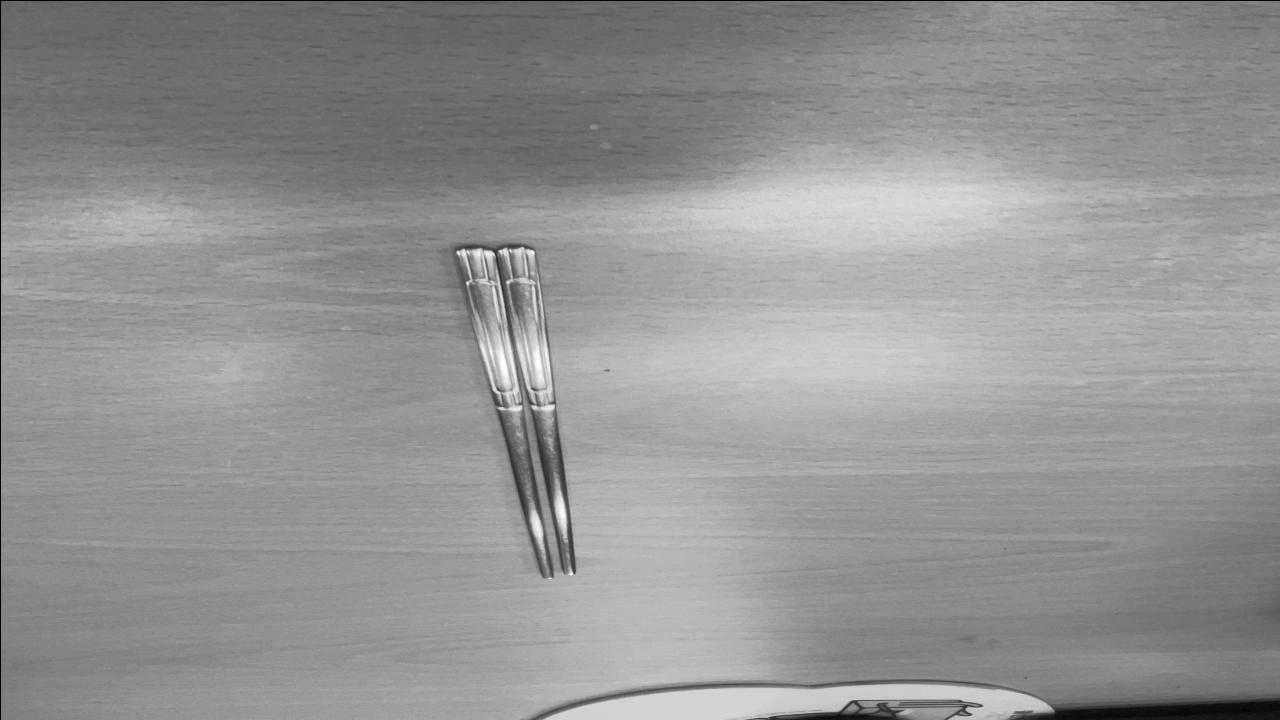chopstick: (438, 243, 592, 581)
